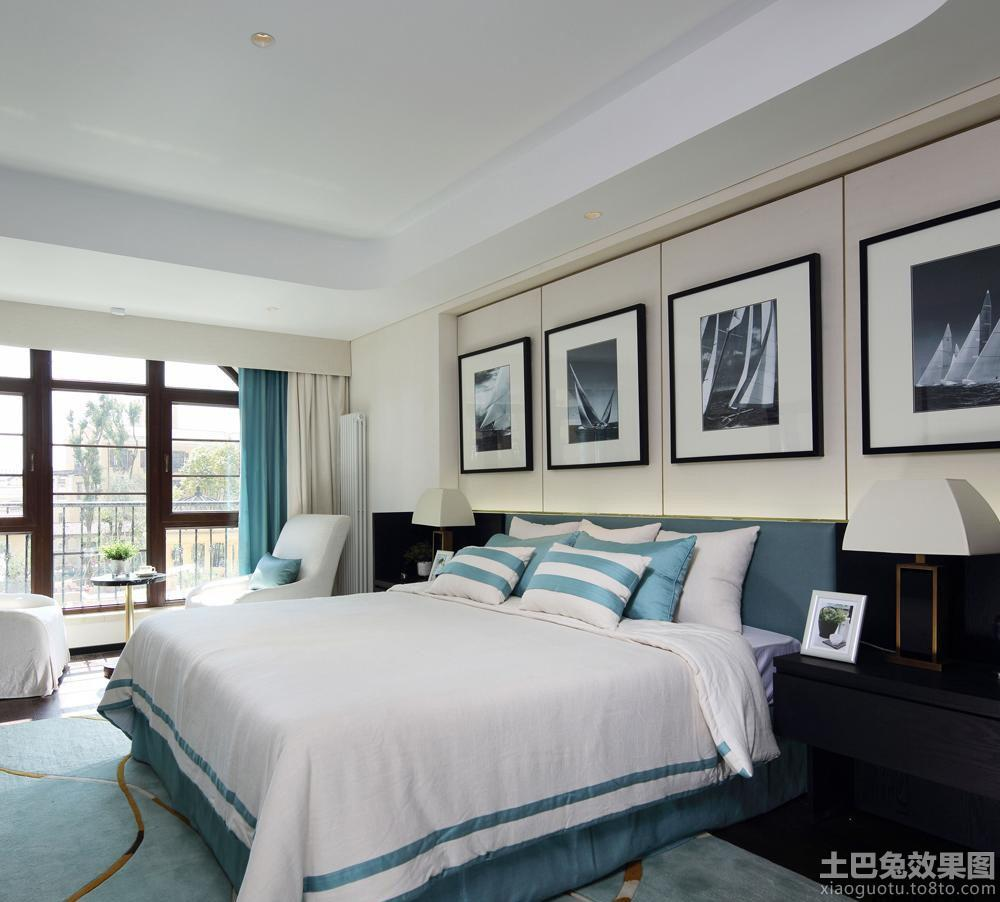床: (122, 576, 786, 884)
枕头: (421, 522, 778, 637)
灯: (246, 29, 273, 54), (578, 206, 608, 228)
